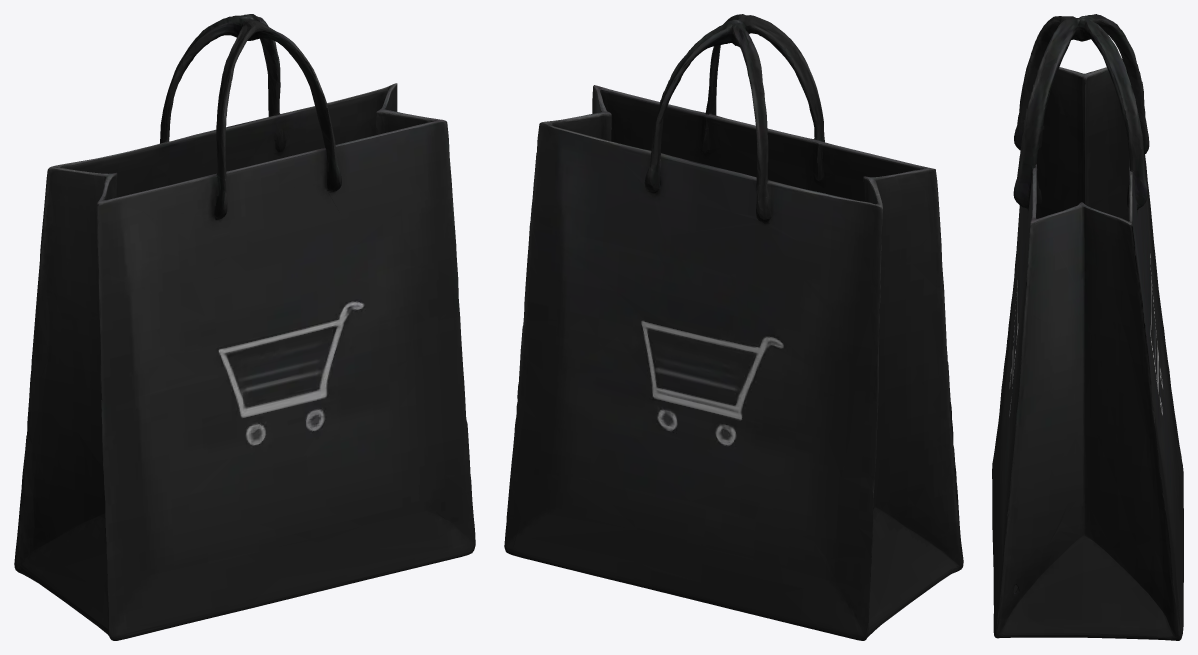
Rendered from bag_shopping_black_cart.glb.
The picture shows the model from 3 angles, left to right: view 1: azimuth 30°, elevation 25°; view 2: azimuth 150°, elevation 25°; view 3: azimuth 270°, elevation 25°; orthographic projection. The views are drawn at different scales.
Parts seen in each view (by area): view 1: geometry_0; view 2: geometry_0; view 3: geometry_0.
Part boxes in pixels (<box>): geometry_0: <box>14,14,475,640</box>; geometry_0: <box>504,14,963,640</box>; geometry_0: <box>992,14,1183,640</box>.
Size of the model in its own units: 0.7071 by 0.9997 by 0.3245.
1 material, 1 textured.
